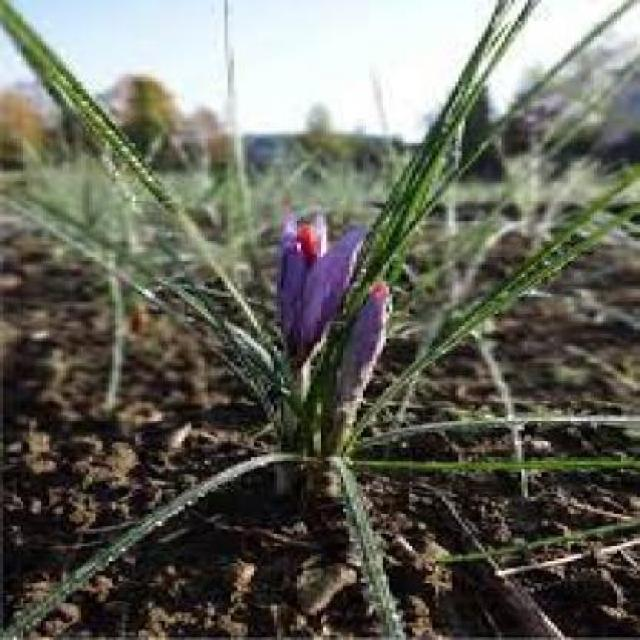saffron closed: (334, 282, 391, 450)
saffron open: (276, 213, 360, 384)
